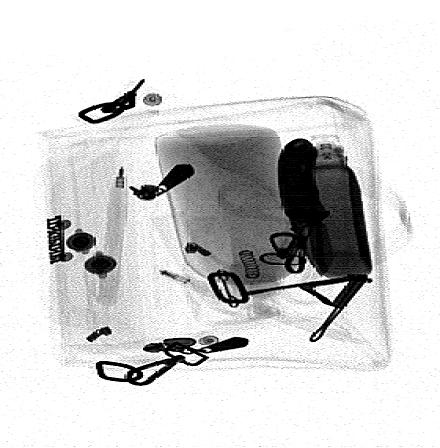Knife: (276, 137, 337, 278)
